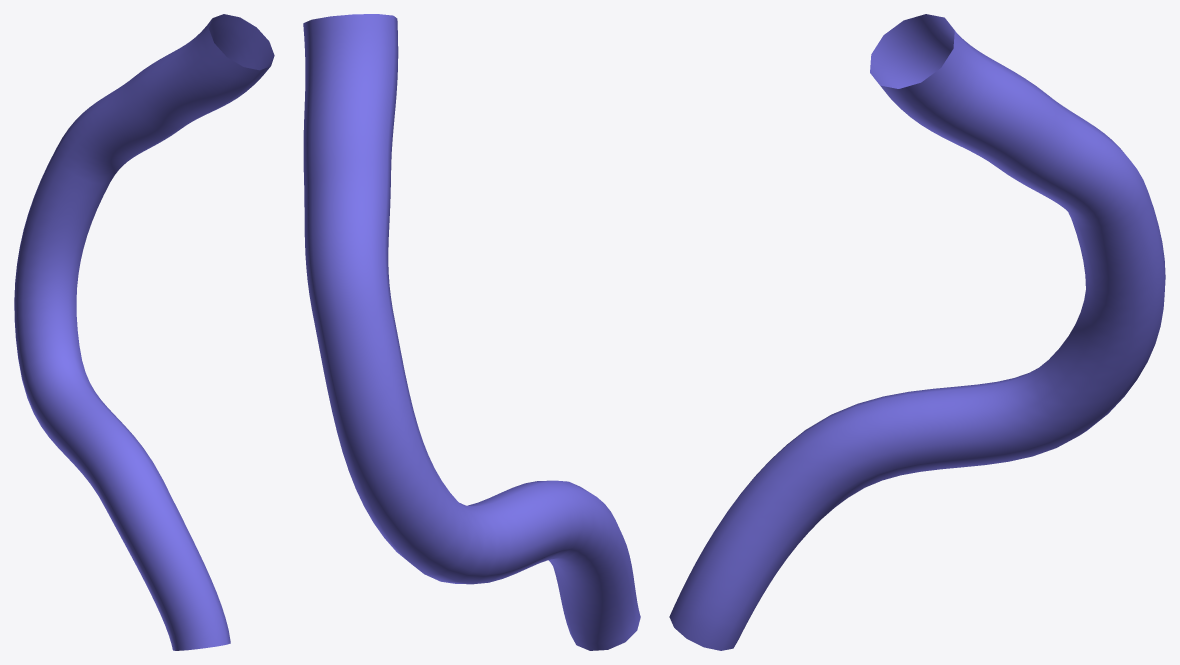
File: External_iliac_vein.r_BezierCurve.193.glb
The picture shows the model from 3 angles, left to right: view 1: azimuth 30°, elevation 25°; view 2: azimuth 150°, elevation 25°; view 3: azimuth 270°, elevation 25°; orthographic projection. The views are drawn at different scales.
Visible parts, largest first — view 1: External_iliac_vein.r_BezierCurve.193; view 2: External_iliac_vein.r_BezierCurve.193; view 3: External_iliac_vein.r_BezierCurve.193.
Boxes of the visible parts, x1,y1,x2,y2 form: External_iliac_vein.r_BezierCurve.193: [14, 14, 274, 650]; External_iliac_vein.r_BezierCurve.193: [303, 14, 640, 650]; External_iliac_vein.r_BezierCurve.193: [669, 14, 1165, 650].
Bounding box in the file's own units: 0.0396 × 0.1027 × 0.067.
